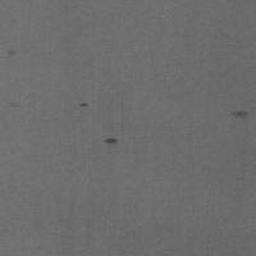Inclusion: (230, 108, 250, 120), (105, 137, 119, 146), (6, 49, 18, 58), (78, 101, 91, 109)
